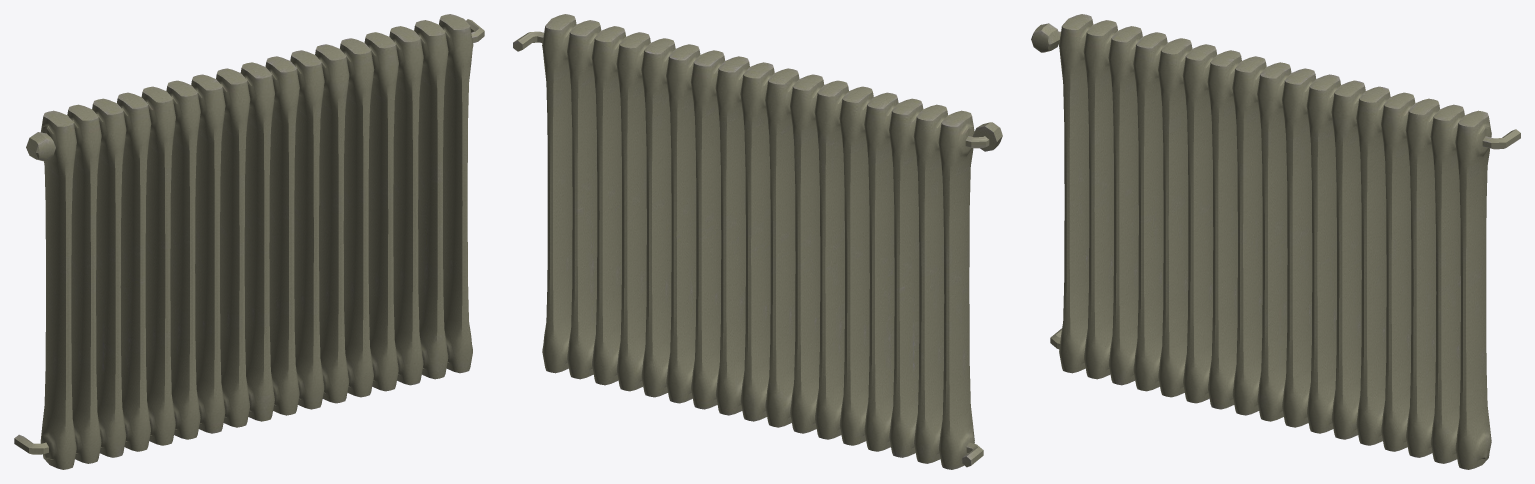
The model's file is heater.dae.
3 views of the same model, side by side, from view 1: azimuth 30°, elevation 25°; view 2: azimuth 150°, elevation 25°; view 3: azimuth 330°, elevation 25° (orthographic).
Parts seen in each view (by area): view 1: Radiador.011; view 2: Radiador.011; view 3: Radiador.011.
Part boxes in pixels (box(x1,y1,x2,y2)): Radiador.011: box(14, 14, 484, 469); Radiador.011: box(513, 14, 1002, 469); Radiador.011: box(1031, 14, 1520, 469).
Size of the model in its own units: 1.13 by 0.1162 by 0.8.
